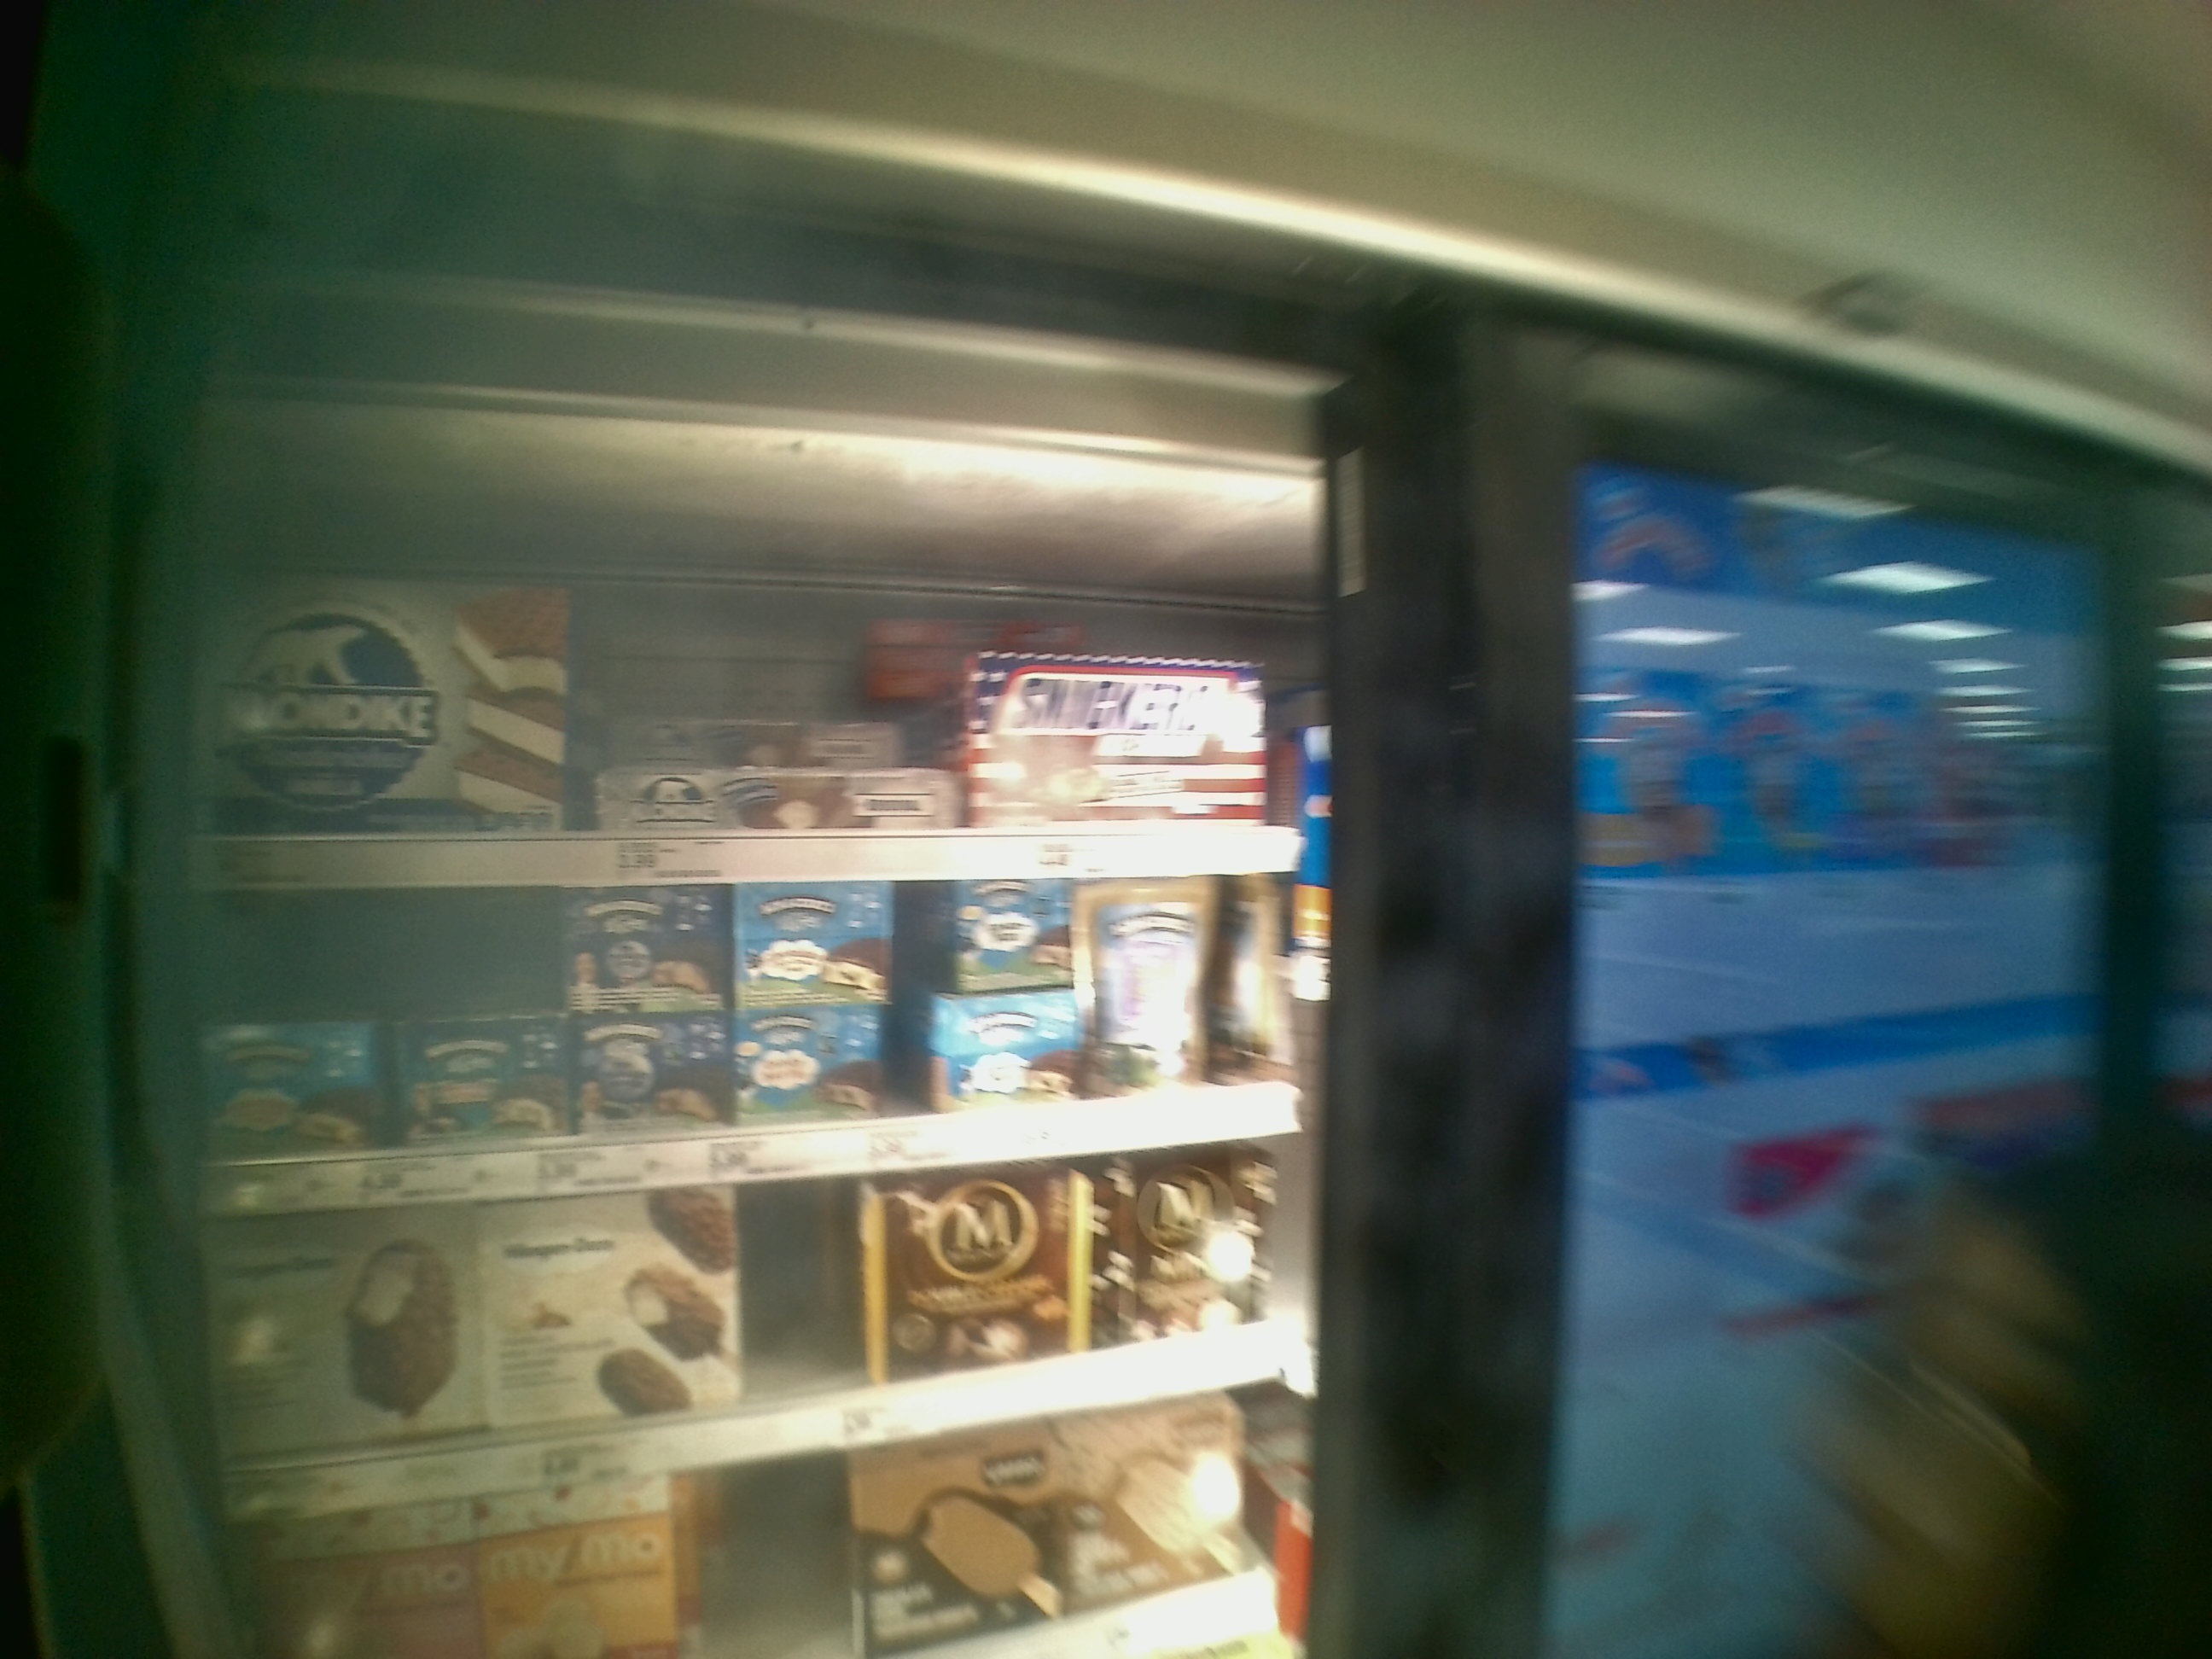shelf: (179, 467, 1338, 887), (172, 884, 1322, 1206)
